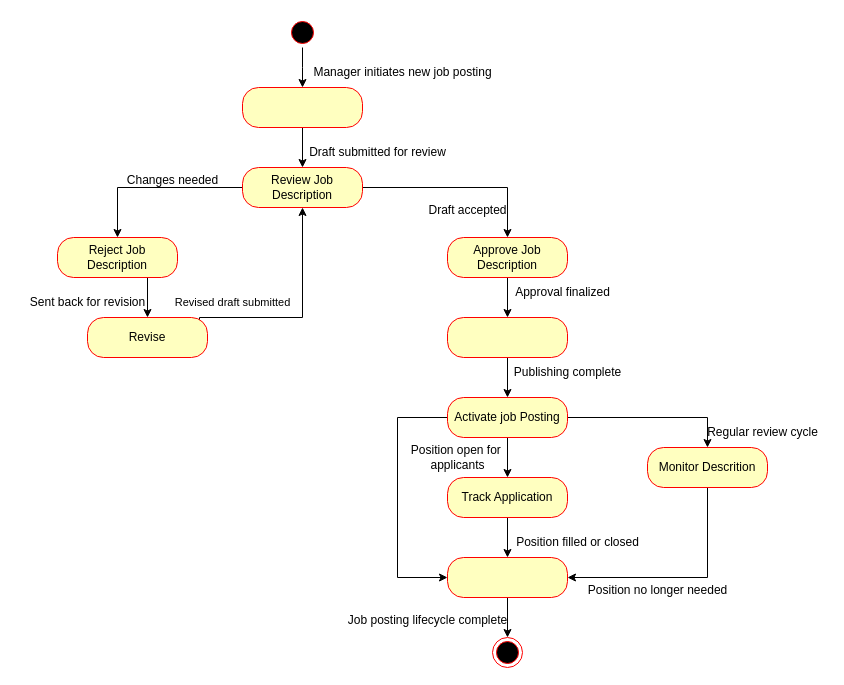
The diagram is 844 pixels wide and 685 high, and some of its shapes have lost their labels. The shapes that lost their labels are listed below. From the top down, each one's box as (x1, y1, x2, y2) in pixels, then its label:
(242, 86, 362, 128): Create Job Description Draft
(446, 316, 568, 358): Publish Job Description
(446, 556, 568, 598): Archive Job Description
